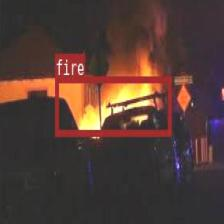fire: (55, 76, 170, 135)
